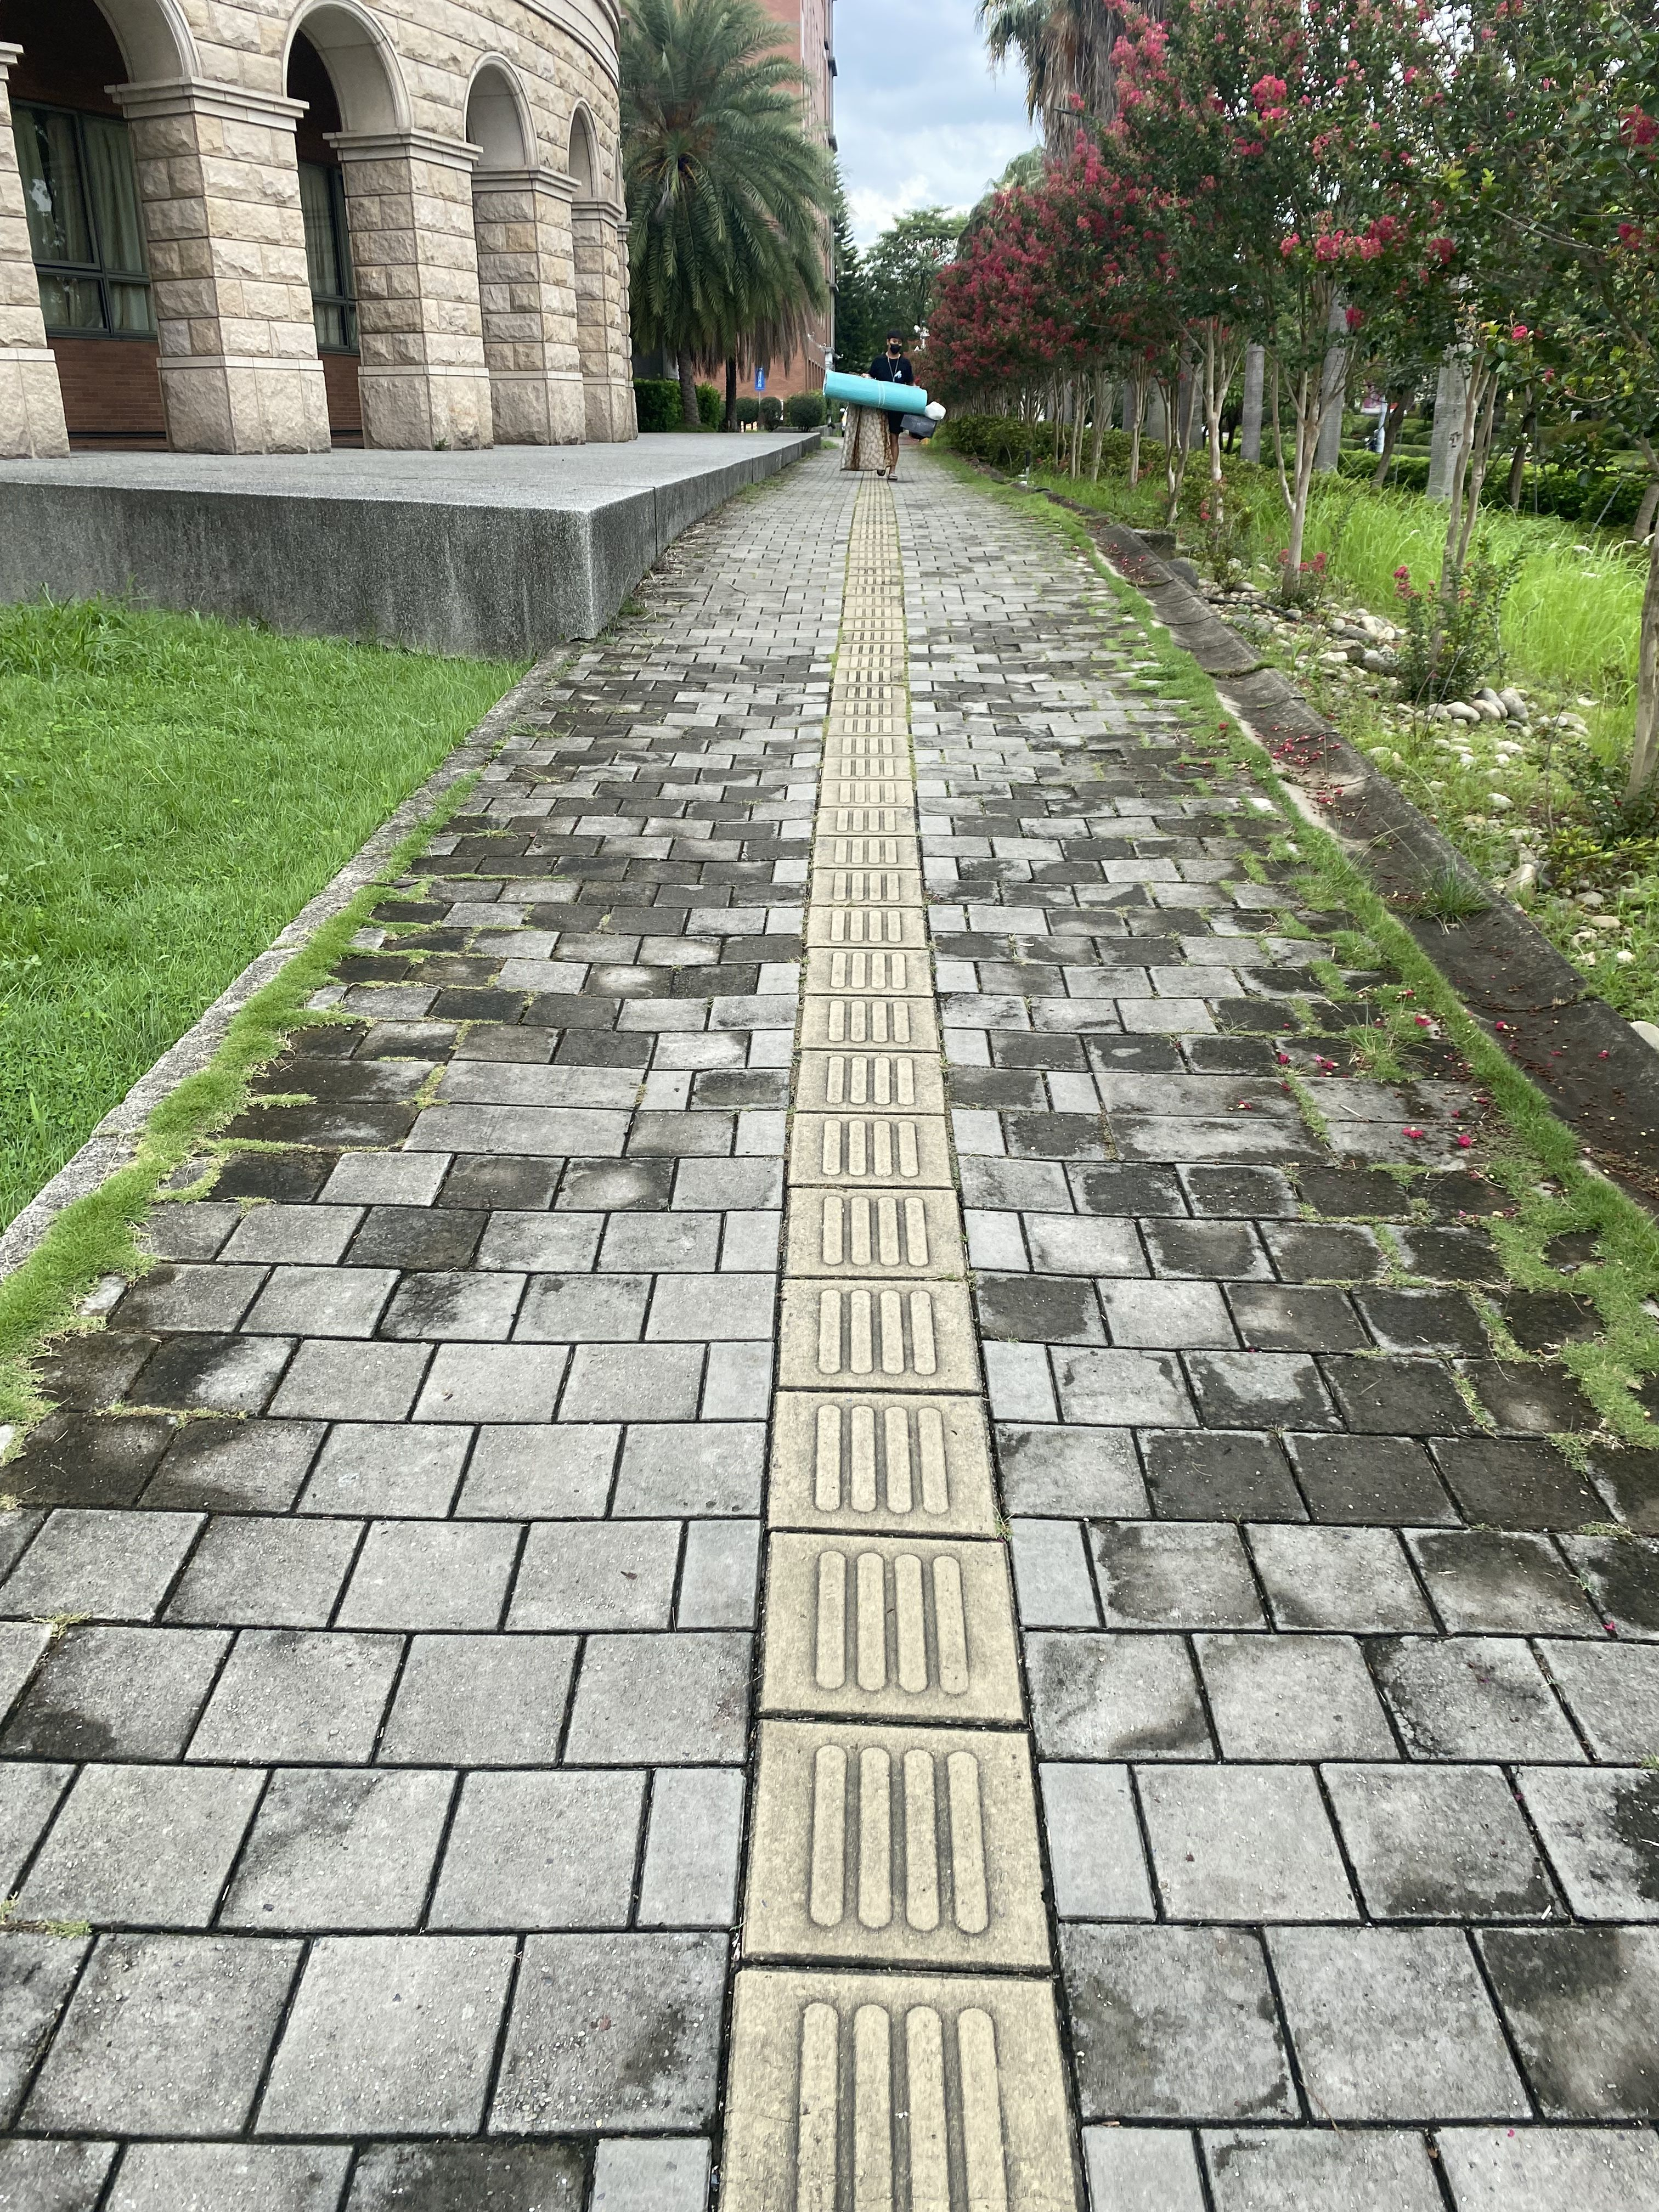sidewalk: (0, 430, 1659, 2212)
